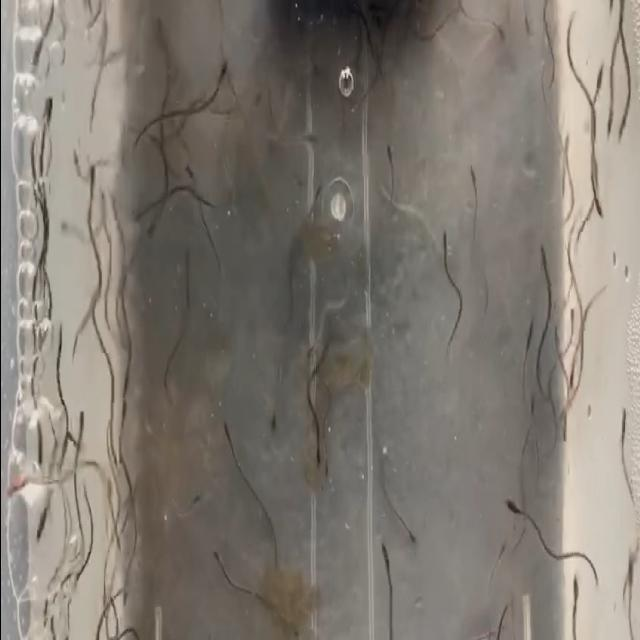active_glass_eel: (6, 471, 30, 506), (530, 236, 550, 274), (192, 476, 214, 510), (517, 9, 535, 48), (376, 532, 396, 566), (266, 408, 284, 445), (555, 390, 569, 436), (377, 134, 397, 164), (435, 222, 453, 254), (404, 518, 418, 558), (53, 315, 66, 355), (118, 367, 134, 399), (302, 121, 319, 151), (502, 492, 520, 520), (466, 164, 486, 188), (120, 578, 132, 618), (218, 54, 232, 88), (624, 547, 636, 586), (32, 506, 44, 544), (497, 532, 508, 573), (75, 403, 85, 448), (219, 414, 233, 444), (184, 158, 198, 188), (211, 543, 224, 575), (592, 62, 604, 96), (562, 575, 578, 599), (618, 112, 629, 146), (590, 202, 604, 227), (562, 366, 576, 391), (310, 180, 324, 204), (42, 100, 56, 124), (110, 454, 121, 484), (615, 402, 628, 427), (85, 163, 99, 186), (526, 318, 536, 350), (180, 251, 200, 267), (112, 522, 122, 554), (562, 132, 574, 158), (566, 302, 578, 328), (494, 20, 506, 46), (308, 448, 324, 467), (603, 112, 613, 142), (550, 330, 565, 350), (70, 149, 80, 179), (526, 389, 538, 413), (144, 220, 160, 238), (136, 204, 146, 232), (60, 213, 70, 240), (321, 460, 332, 482), (98, 192, 108, 212)
